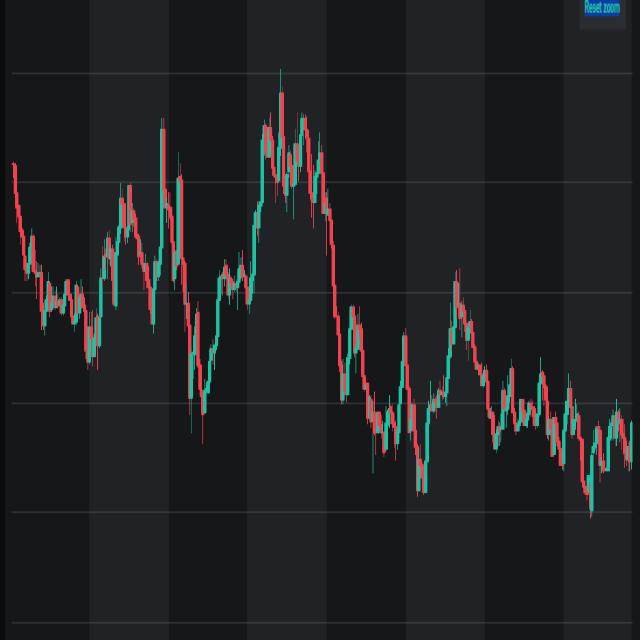Falling-Wedge: (225, 24, 499, 600)
